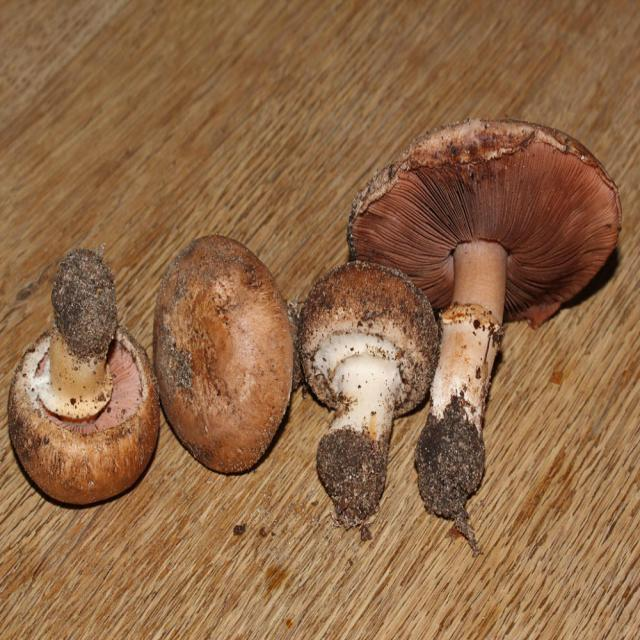Agaricus bisporus: (348, 131, 627, 522), (296, 269, 433, 524), (13, 259, 157, 494), (157, 240, 298, 471)
